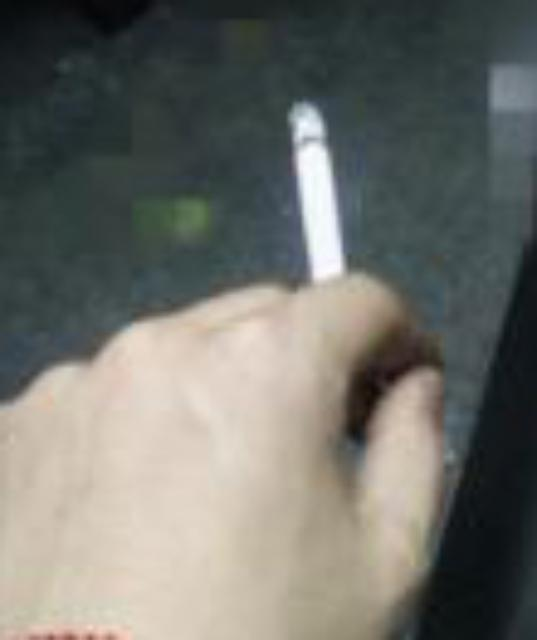Cigarette: (286, 98, 360, 342)
